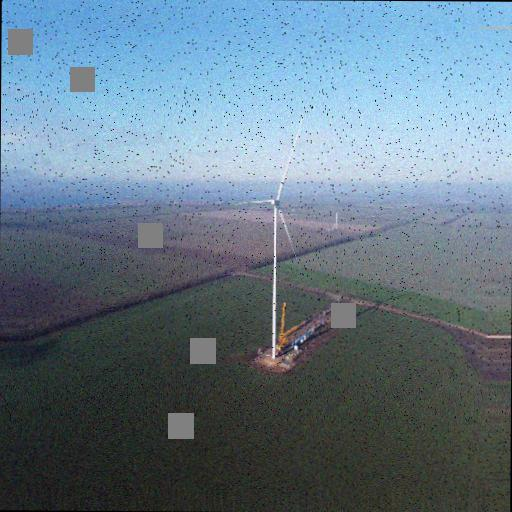wind turbine: (230, 115, 304, 359)
